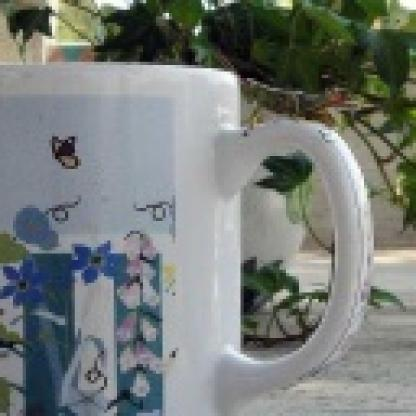grasshopper: (234, 70, 355, 126)
